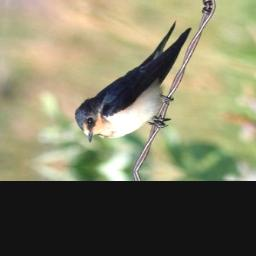Swallow: (69, 13, 197, 151)
